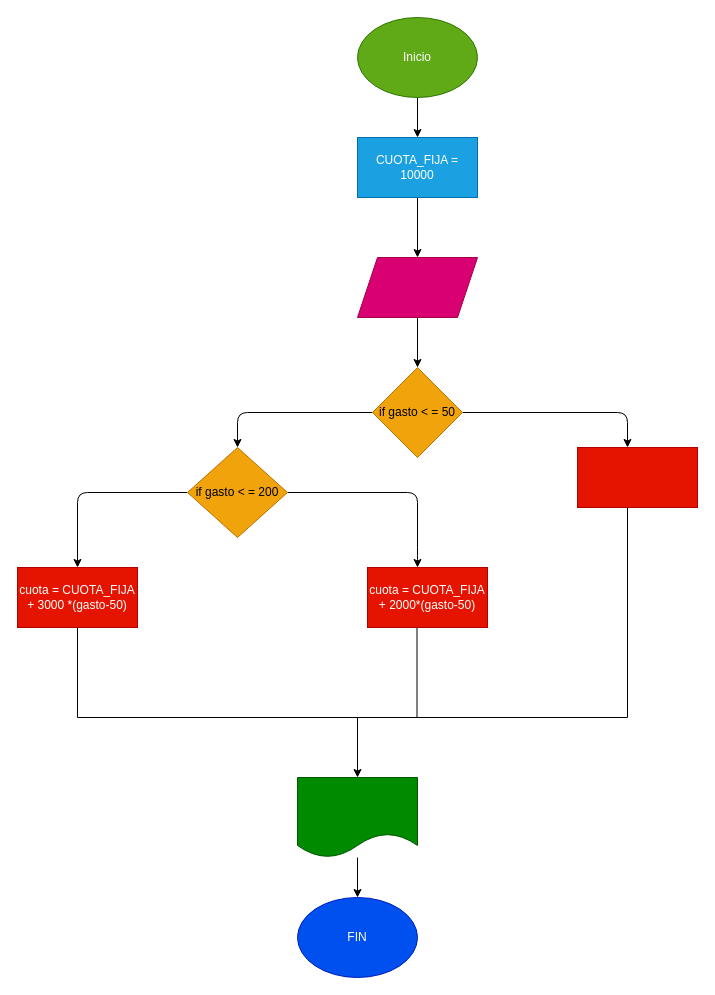
Some shapes in this 715 by 995 pixel diagram are drawn without their labels. Here are the shapes that lost their labels. From the top down, the centre of each, then its label:
the point at 417,287: gasto
the point at 637,477: cuota = CUOTA_FIJA
the point at 357,817: precio
